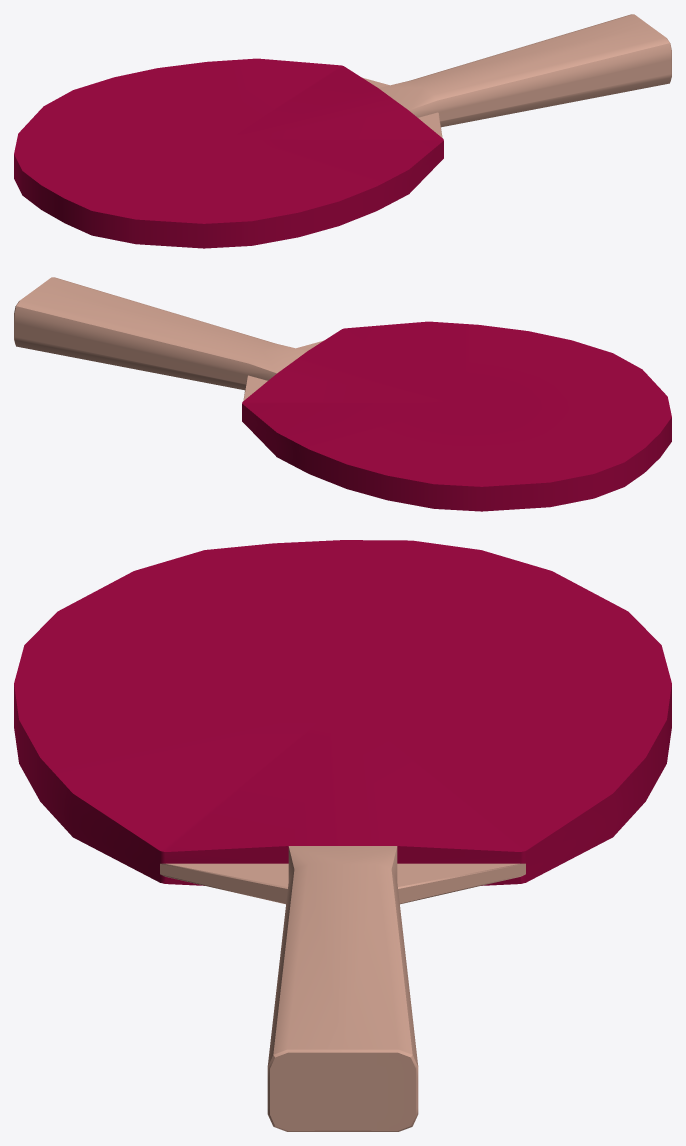
Rendered from paletka.fbx.
3 renders of one model, top to bottom at view 1: azimuth 30°, elevation 25°; view 2: azimuth 150°, elevation 25°; view 3: azimuth 270°, elevation 25°, orthographic. The views are drawn at different scales.
Visible parts, largest first — view 1: pCylinder1; view 2: pCylinder1; view 3: pCylinder1.
Boxes of the visible parts, x1=… form: pCylinder1: x1=14, y1=14, x2=671, y2=248; pCylinder1: x1=14, y1=277, x2=671, y2=511; pCylinder1: x1=14, y1=540, x2=671, y2=1131.
Bounding box in the file's own units: 80.7 × 5.85 × 42.35.
